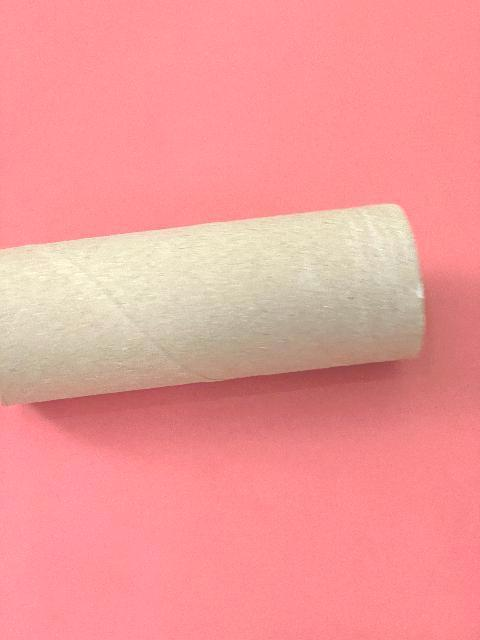tissueroll: (0, 198, 430, 408)
